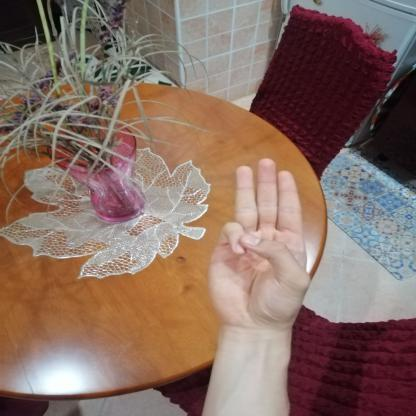THA: (195, 148, 319, 336)
